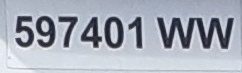0: (104, 16, 125, 50)
1: (128, 16, 144, 50)
4: (80, 16, 102, 51)
5: (15, 14, 35, 48)
7: (57, 15, 78, 50)
9: (35, 15, 56, 49)
w: (156, 16, 195, 51), (195, 17, 236, 50)
